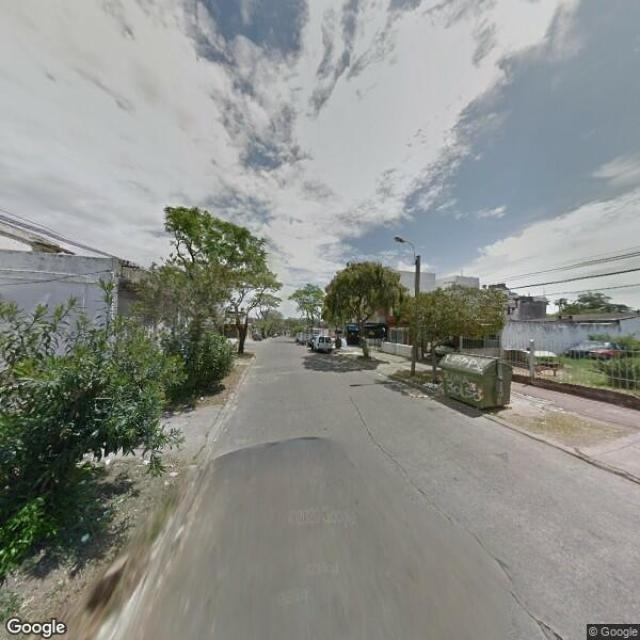garbage container: (430, 346, 520, 424)
